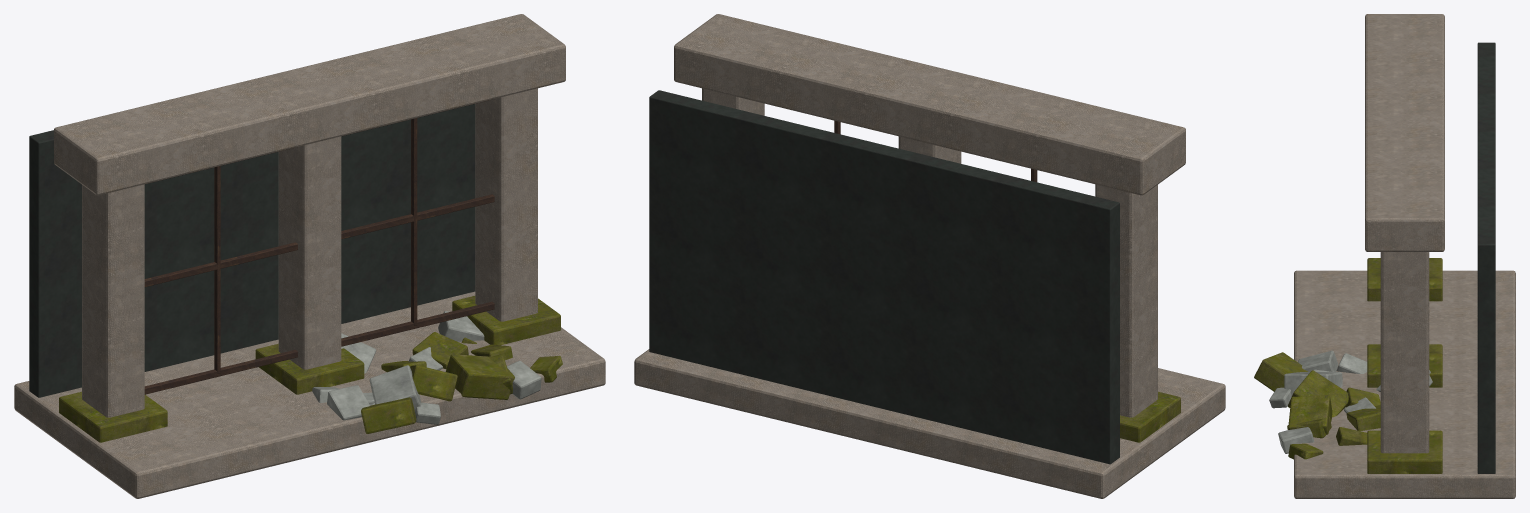
The model's file is f3_v3_sunken_shopfront.glb.
3 views of the same model, side by side, from view 1: azimuth 30°, elevation 25°; view 2: azimuth 150°, elevation 25°; view 3: azimuth 270°, elevation 25° (orthographic). The views are drawn at different scales.
Visible parts, largest first — view 1: f3_weathered_concrete_surface, f3_deep_crack_surface, f3_damp_concrete_surface, f3_oxidized_iron_surface, f3_exposed_aggregate_surface; view 2: f3_deep_crack_surface, f3_weathered_concrete_surface, f3_damp_concrete_surface; view 3: f3_weathered_concrete_surface, f3_damp_concrete_surface, f3_deep_crack_surface, f3_exposed_aggregate_surface.
Boxes of the visible parts, x1,y1,x2,y2 form: f3_weathered_concrete_surface: (14, 14, 605, 498); f3_deep_crack_surface: (29, 104, 475, 397); f3_damp_concrete_surface: (59, 296, 562, 442); f3_oxidized_iron_surface: (144, 99, 494, 394); f3_exposed_aggregate_surface: (312, 311, 541, 424); f3_deep_crack_surface: (649, 90, 1119, 464); f3_weathered_concrete_surface: (634, 14, 1225, 498); f3_damp_concrete_surface: (1120, 391, 1180, 442); f3_weathered_concrete_surface: (1294, 14, 1515, 498); f3_damp_concrete_surface: (1254, 258, 1442, 473); f3_deep_crack_surface: (1477, 42, 1495, 473); f3_exposed_aggregate_surface: (1269, 350, 1432, 453).
Bounding box in the file's own units: 5.5 × 3.49 × 2.95.
Materials: 5 (5 with a texture image).
